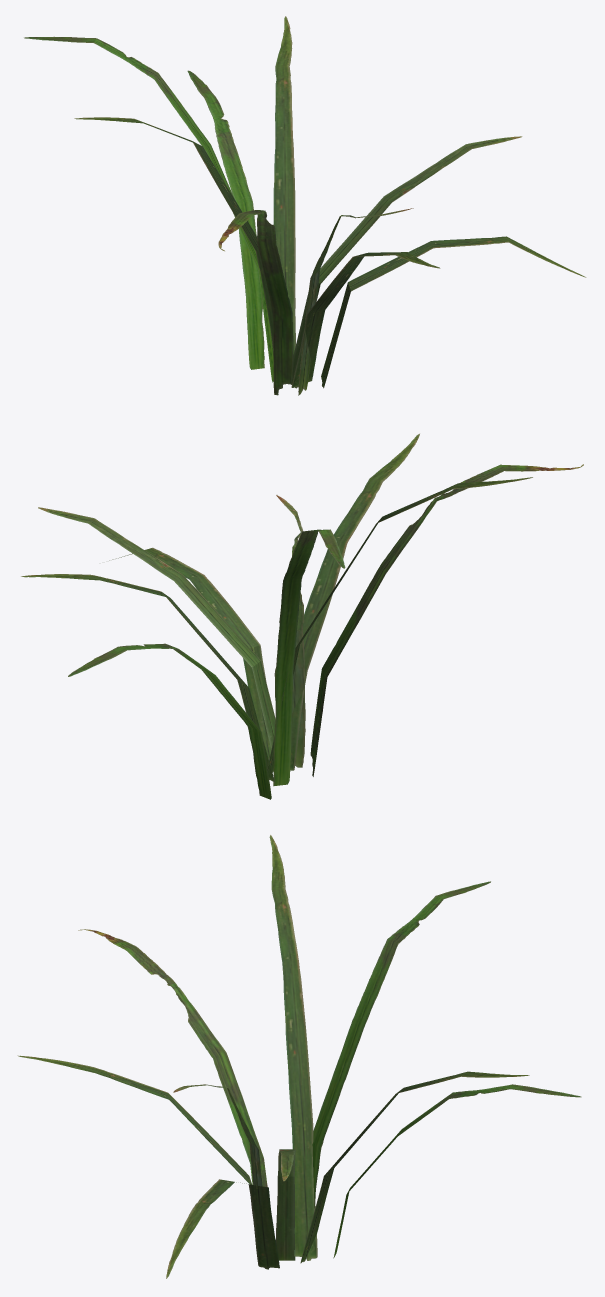
Rendered from SM_Grass04.fbx.
The picture shows the model from 3 angles, top to bottom: view 1: azimuth 30°, elevation 25°; view 2: azimuth 150°, elevation 25°; view 3: azimuth 270°, elevation 25°; orthographic projection. The views are drawn at different scales.
Parts seen in each view (by area): view 1: SM_Grass04_LOD0; view 2: SM_Grass04_LOD0; view 3: SM_Grass04_LOD0.
Part boxes in pixels (<box>): SM_Grass04_LOD0: <box>24,16,586,395</box>; SM_Grass04_LOD0: <box>21,433,583,799</box>; SM_Grass04_LOD0: <box>17,835,581,1278</box>.
Size of the model in its own units: 38.81 by 42.61 by 26.02.
Materials: 1 (1 with a texture image).
